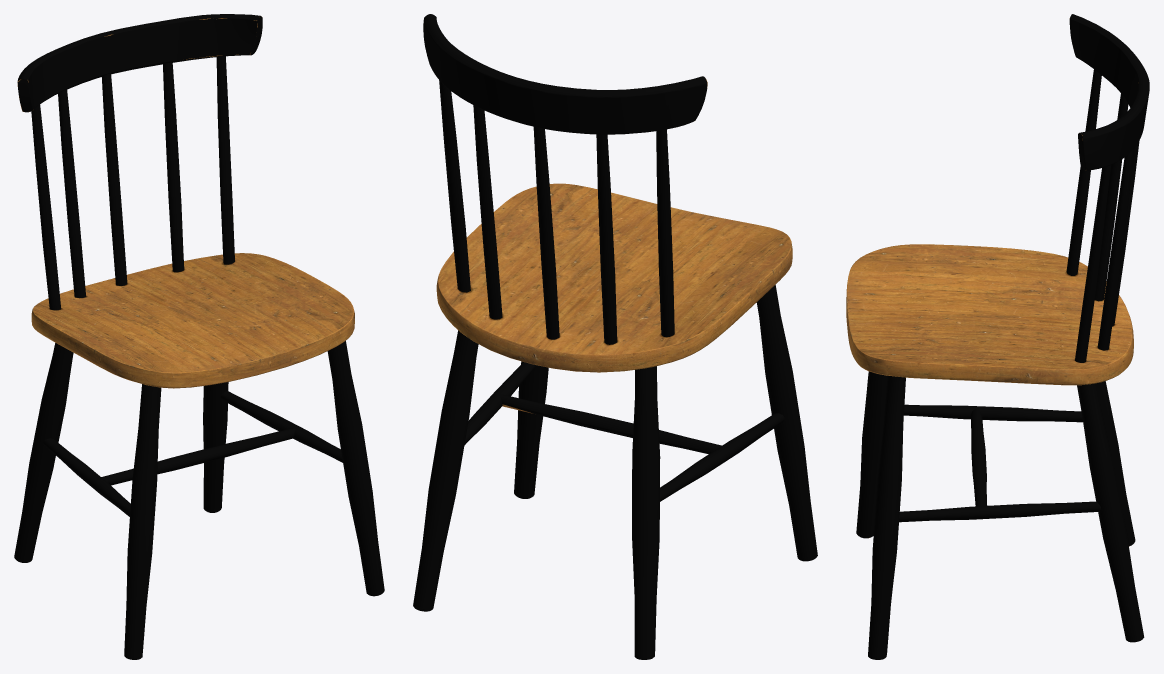
File: sandalye1.glb
3 renders of one model, left to right at view 1: azimuth 30°, elevation 25°; view 2: azimuth 150°, elevation 25°; view 3: azimuth 270°, elevation 25°, orthographic. The views are drawn at different scales.
Visible parts, largest first — view 1: Wooden_Chair; view 2: Wooden_Chair; view 3: Wooden_Chair.
Boxes of the visible parts, bbox=[...] form: Wooden_Chair: bbox=[14, 14, 384, 659]; Wooden_Chair: bbox=[413, 14, 817, 659]; Wooden_Chair: bbox=[846, 14, 1149, 659].
Bounding box in the file's own units: 0.6052 × 1.09 × 0.5813.
2 materials, 1 textured.
